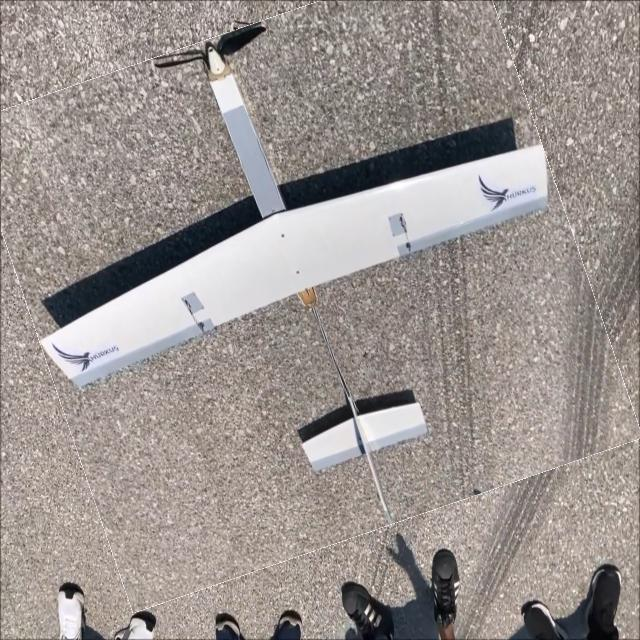iha: (32, 33, 544, 506)
